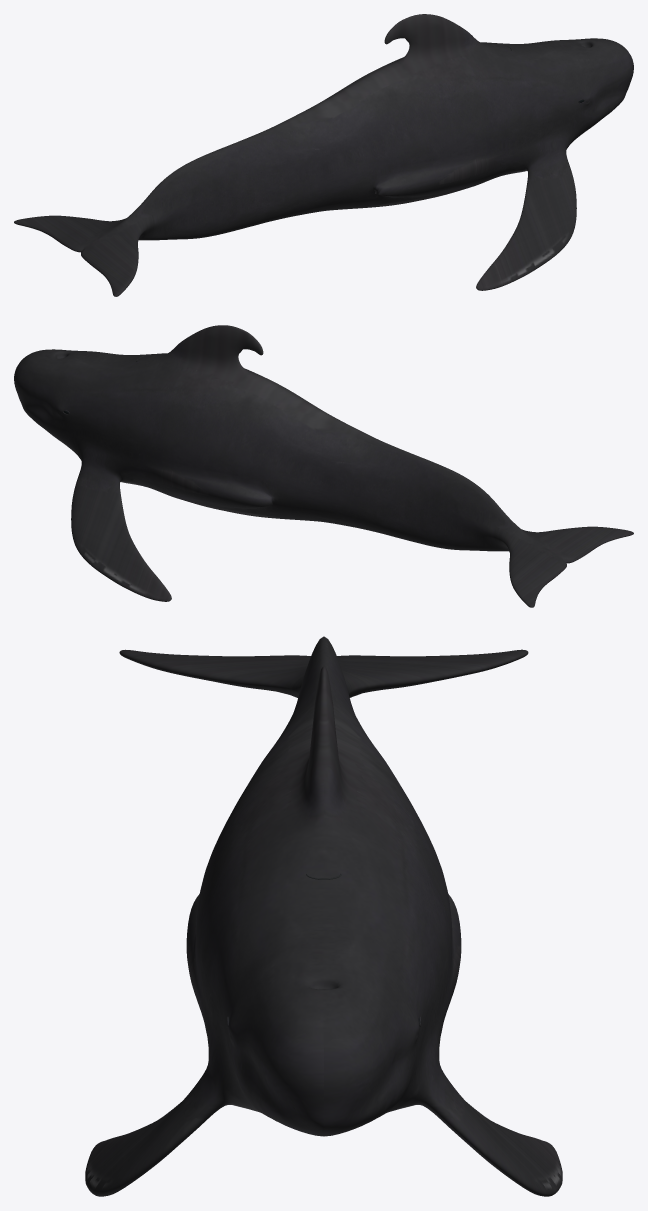
Rendered from model-cetacean-globicephala-melas-v0678.glb.
3 renders of one model, top to bottom at view 1: azimuth 30°, elevation 25°; view 2: azimuth 150°, elevation 25°; view 3: azimuth 270°, elevation 25°, orthographic. The views are drawn at different scales.
Visible parts, largest first — view 1: globicephala-melas licensed source body; view 2: globicephala-melas licensed source body; view 3: globicephala-melas licensed source body.
Boxes of the visible parts, x1,y1,x2,y2 form: globicephala-melas licensed source body: [14, 14, 633, 296]; globicephala-melas licensed source body: [14, 325, 633, 607]; globicephala-melas licensed source body: [85, 636, 562, 1196].
Size of the model in its own units: 3.85 by 1.53 by 1.41.
Materials: 3 (1 with a texture image).
